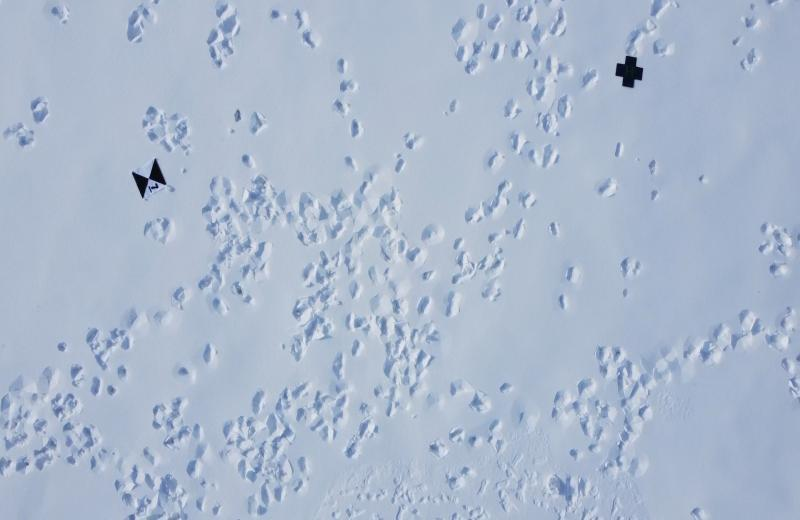Cross: (613, 54, 646, 91)
